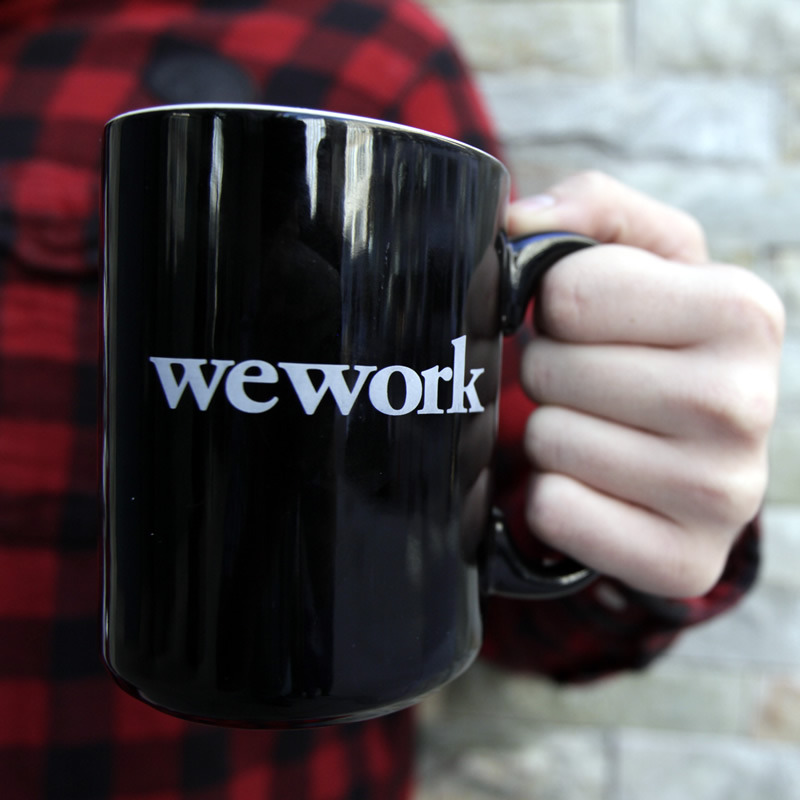wework: (145, 328, 489, 423)
